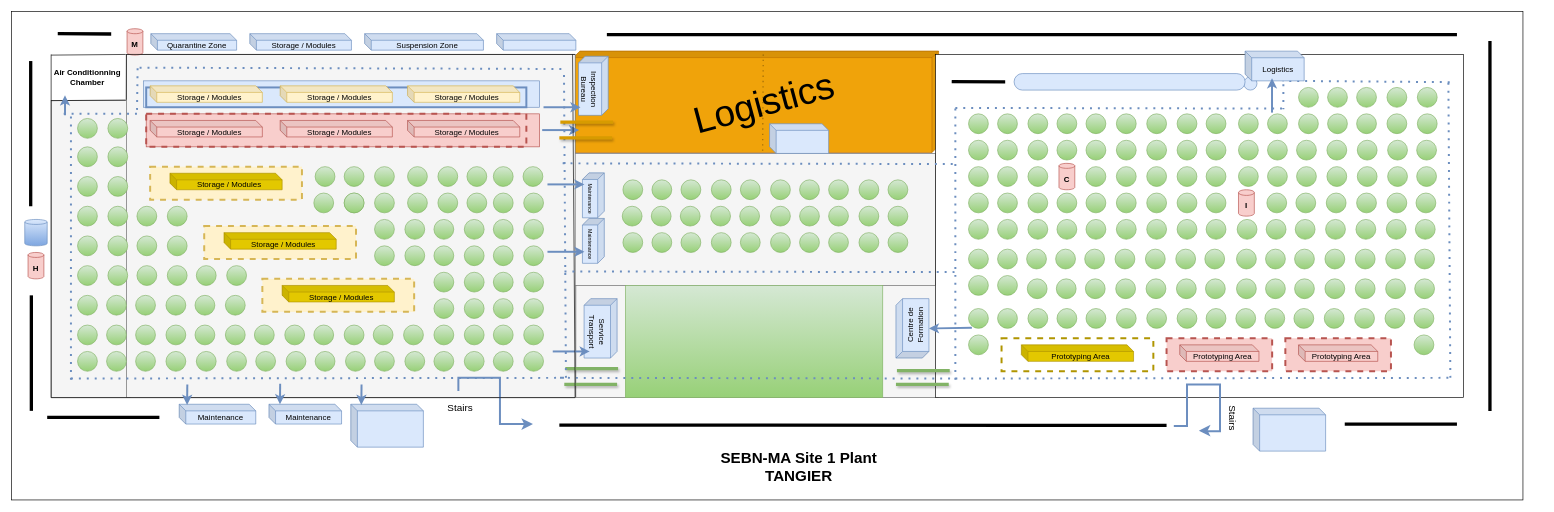
Some shapes in this 1554 by 512 pixel diagram are drawn without their labels. Here are the shapes that lost their labels. From the top down, the centre of each, then its label:
the point at 536,41: Sorting Station
the point at 1129,81: Conveyer Belt
the point at 799,138: Export Zone
the point at 35,232: WD
the point at 754,341: Canteen
the point at 386,425: Server Room 1
the point at 1289,429: Server Room 2
